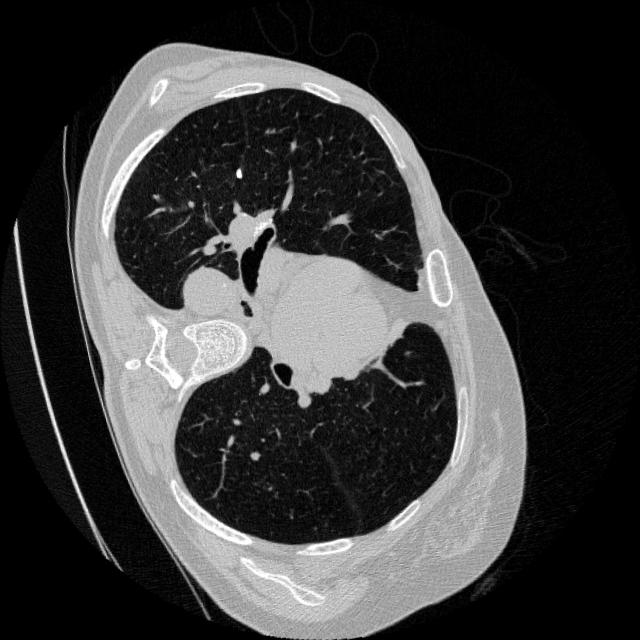nodule: (228, 164, 252, 186)
